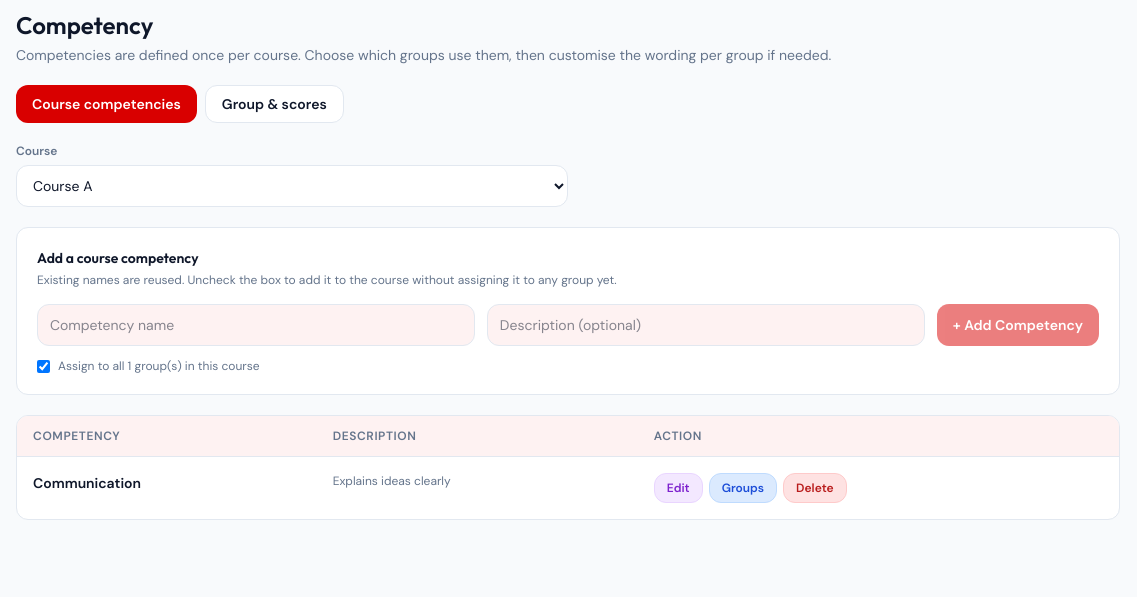
Test case: TeacherCompetency - current UI › shows the API error when creating a competency fails
In the field with placeholder "Competency name": (256, 325) [37,304,475,346], type "Communication"
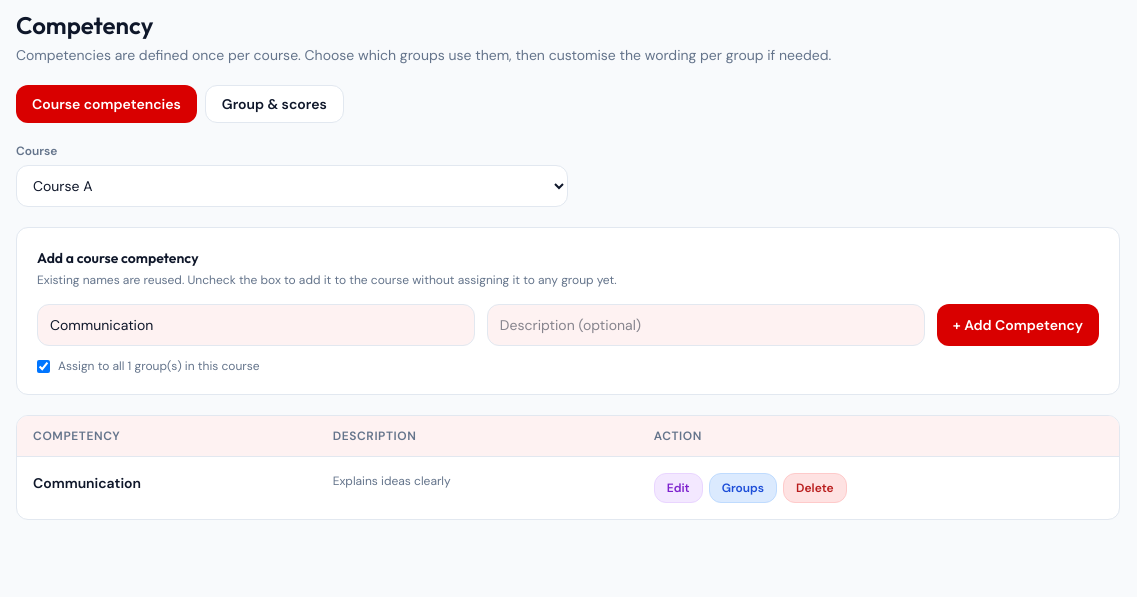
Click the button "+ Add Competency": (1018, 325) [937,304,1099,346]
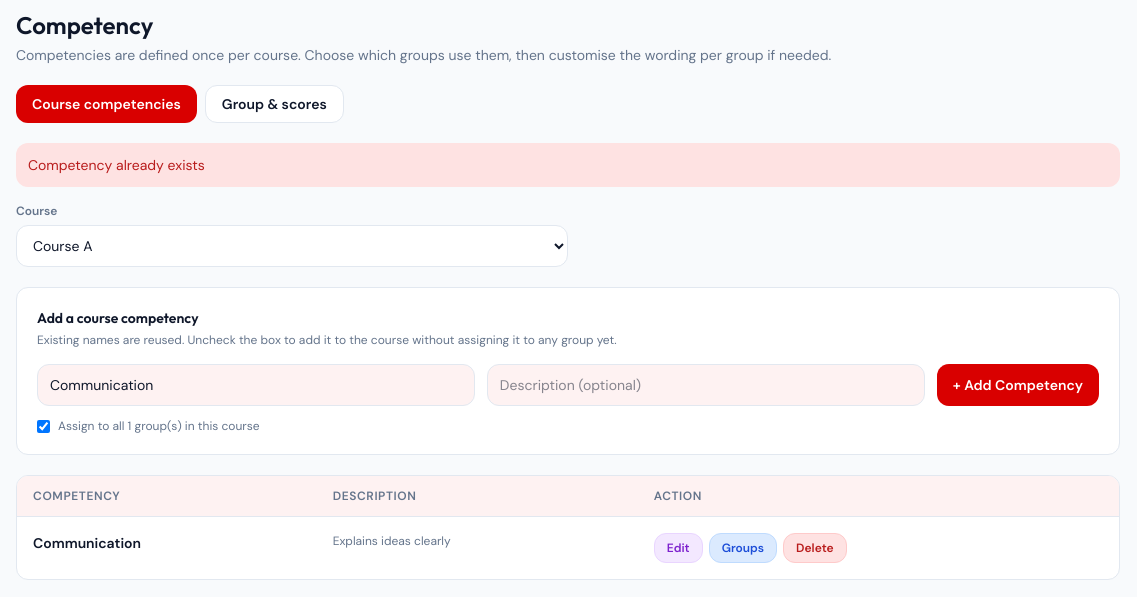
Now the text "Competency already exists" is shown, box [16,143,1120,187]
